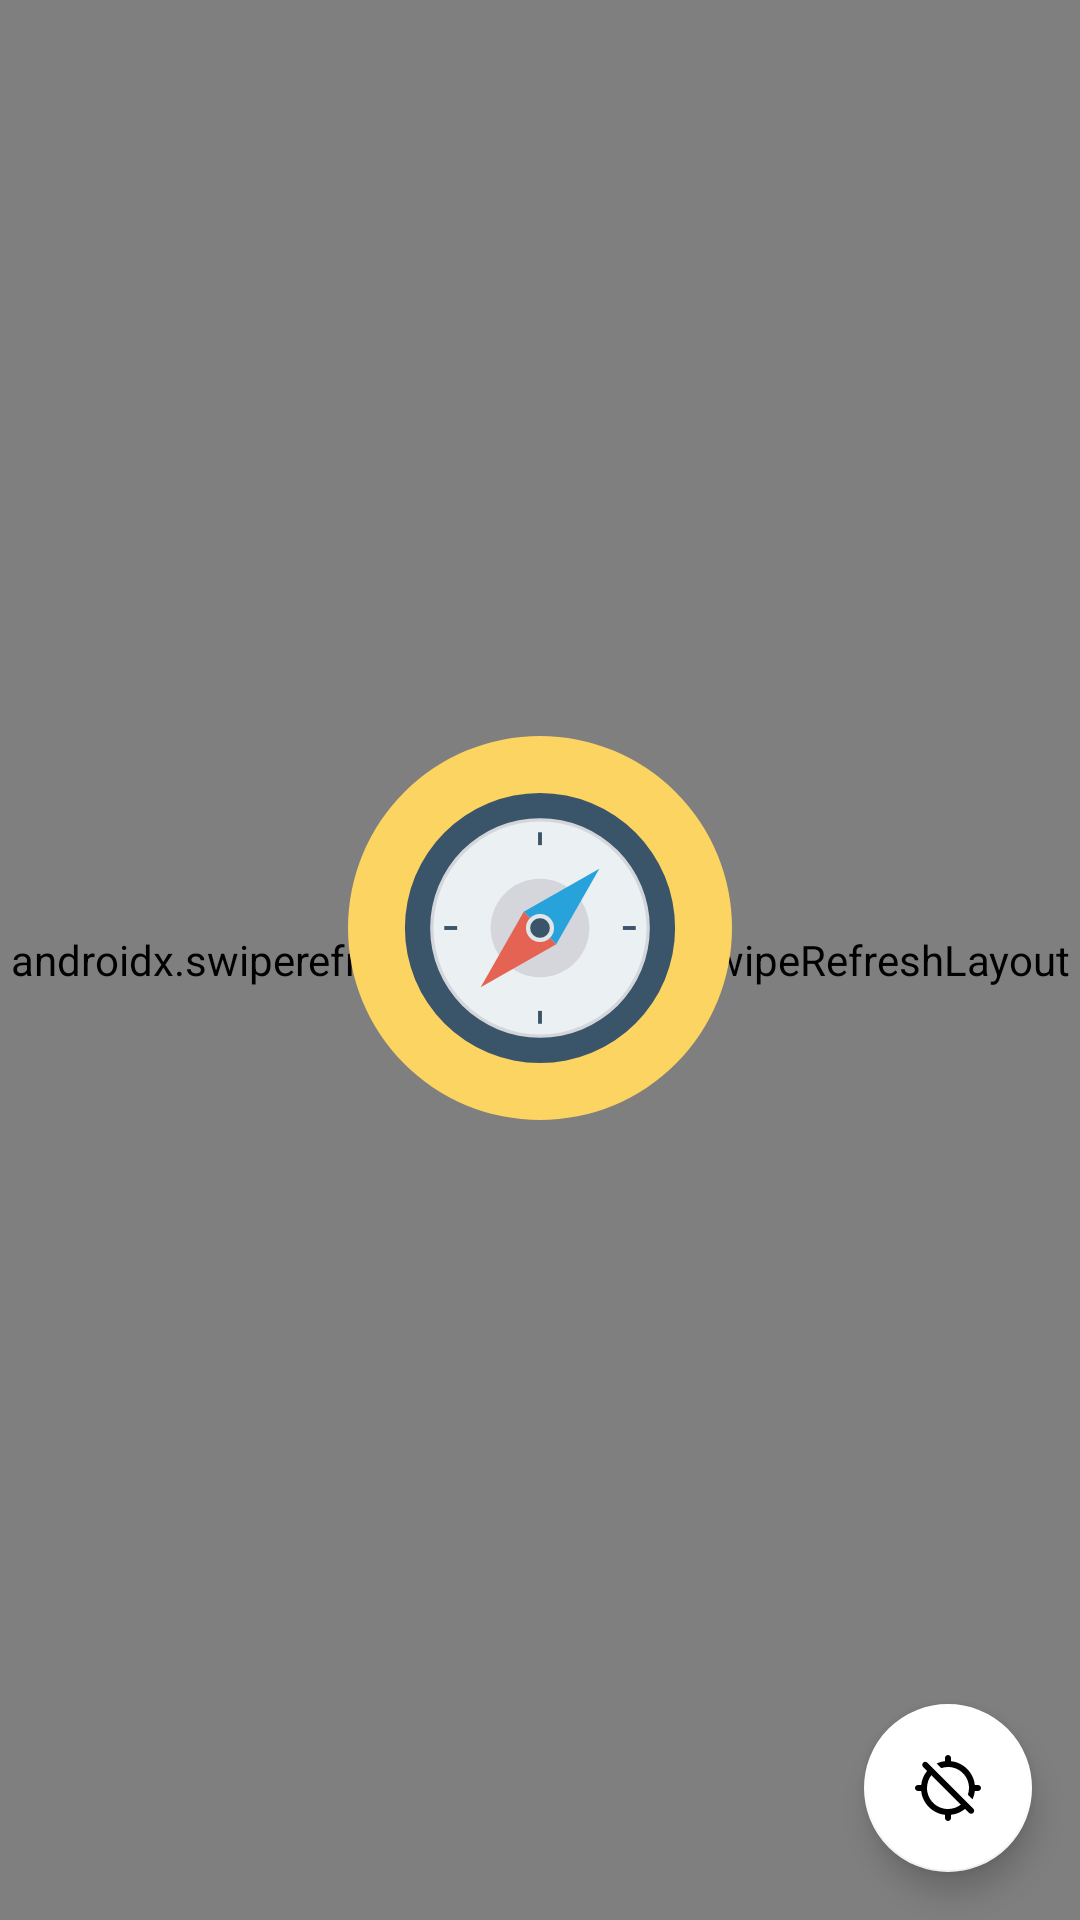

Screen size 1080px×1920px. Icon name, then its box in pixels as (x1, y1, x2, y2):
location: (864, 1704, 1032, 1872)
